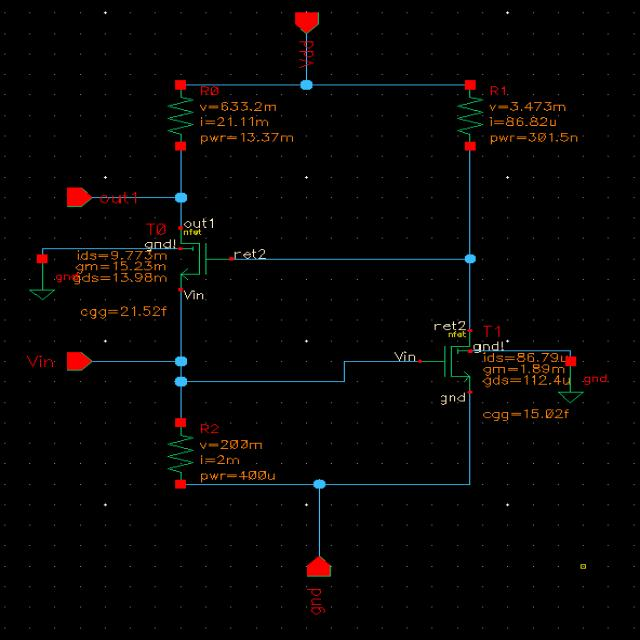nmos: (171, 226, 232, 303), (418, 328, 477, 398)
res: (160, 78, 202, 157), (447, 83, 490, 157), (156, 419, 198, 492)
